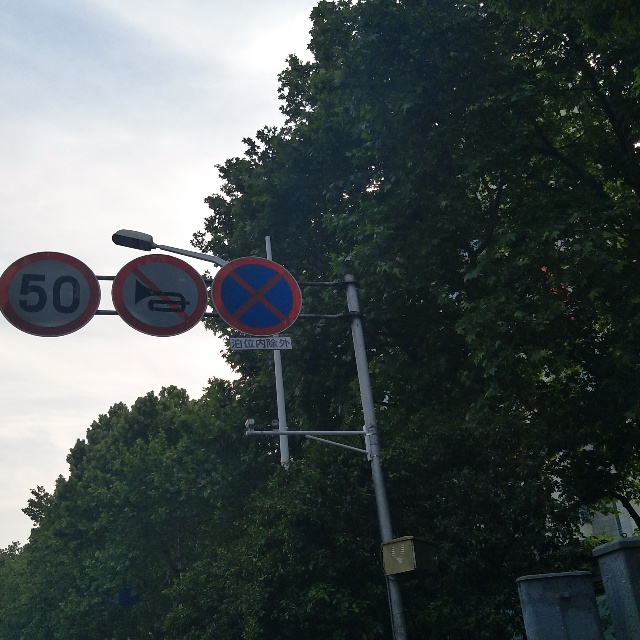nohonk: (107, 250, 209, 344)
stop: (211, 250, 307, 339)
